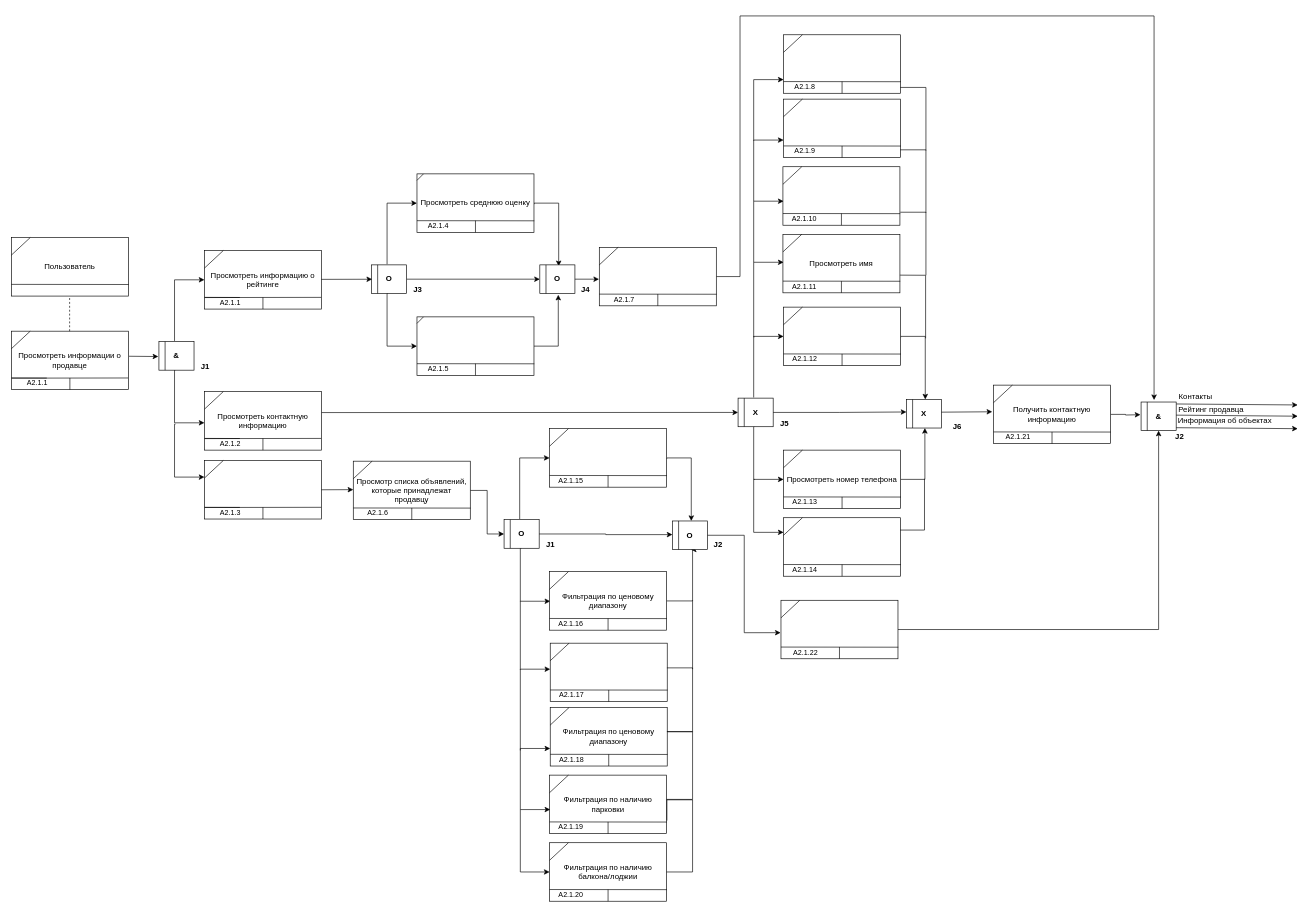
Image size: 1314x913. Some labels were removed from this diagram. Each missing label, with the box of its shape:
Получить информацию о рейтинге: (599, 247, 716, 306)
Просмотр списка объявлений, удовлетворяющих условиям фильтрации: (780, 600, 898, 659)
Просмотреть email: (783, 306, 901, 366)
Просмотреть адрес: (783, 34, 901, 93)
Просмотреть информацию об объявлениях: (204, 460, 321, 519)
Просмотреть контактное лицо: (783, 517, 901, 576)
Просмотреть отзывы: (416, 316, 534, 375)
Просмотреть удобное время для связи: (783, 98, 901, 158)
Просмотреть фамилию: (782, 166, 900, 225)
Фильтрация по дате размещения: (550, 643, 667, 702)
Фильтрация по состоянию недвижимости: (549, 428, 667, 487)
